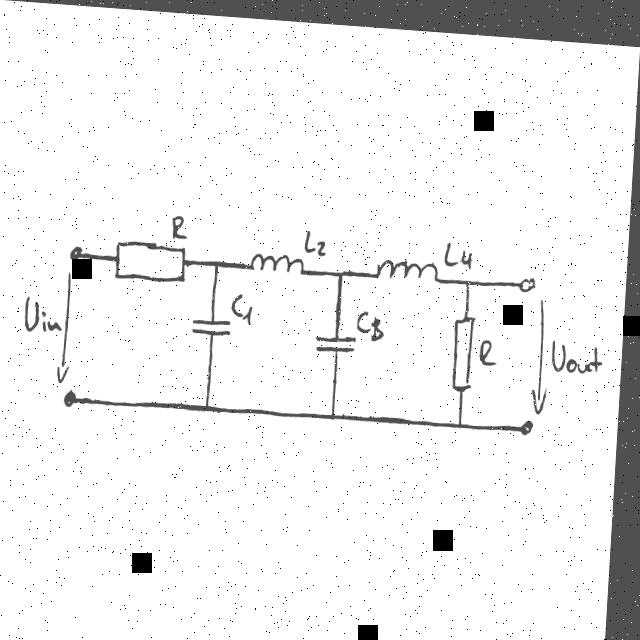capacitor: (194, 311, 238, 338), (318, 328, 360, 350)
inductor: (379, 248, 446, 280), (250, 246, 313, 274)
junction: (206, 397, 220, 414), (337, 262, 350, 280), (460, 410, 472, 425), (332, 404, 343, 419), (214, 254, 225, 269), (465, 270, 477, 283)
resistor: (116, 235, 195, 284), (454, 305, 482, 387)
terminal: (514, 264, 540, 287), (517, 406, 539, 430), (70, 241, 89, 263), (67, 387, 86, 408)
text: (553, 328, 609, 369), (25, 295, 69, 334), (359, 303, 390, 338), (446, 232, 476, 264), (235, 289, 258, 322), (306, 223, 330, 254), (481, 330, 503, 361), (173, 211, 192, 238)
